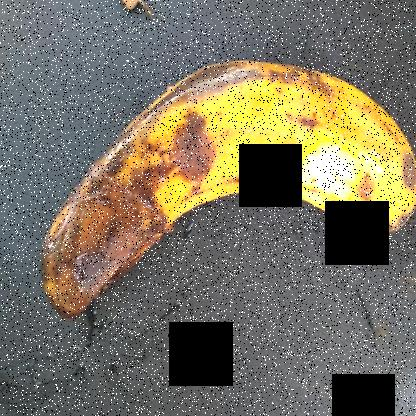rotten: (28, 45, 415, 340)
